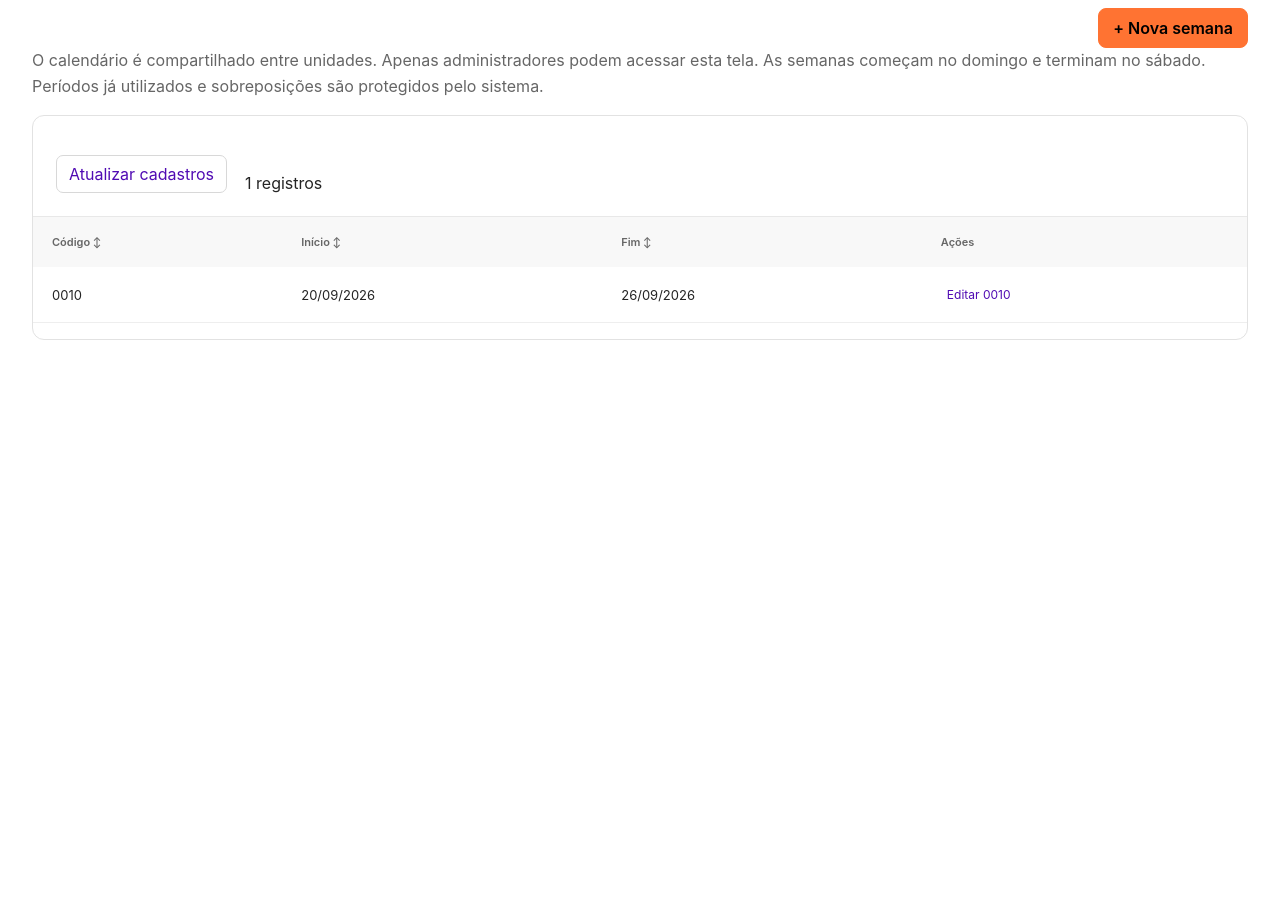
Scenario: mantém formulário da semana em conflito e não permite mudar o código
Click the button "Editar 0010".
click(979, 295)  # box [941,286,1016,303]
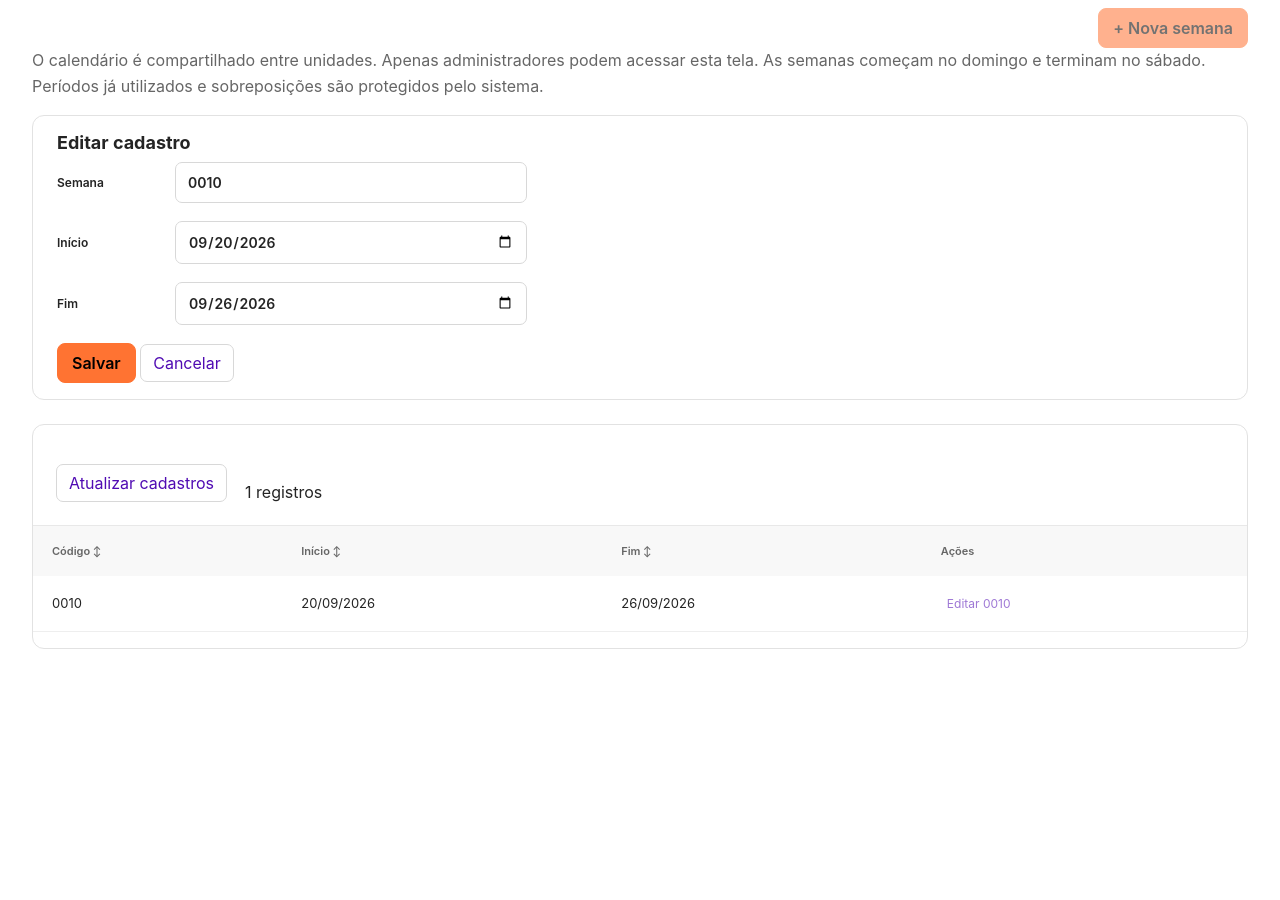
Click the button with aria-label "Salvar cadastro".
click(96, 363)  # box [57,343,136,383]
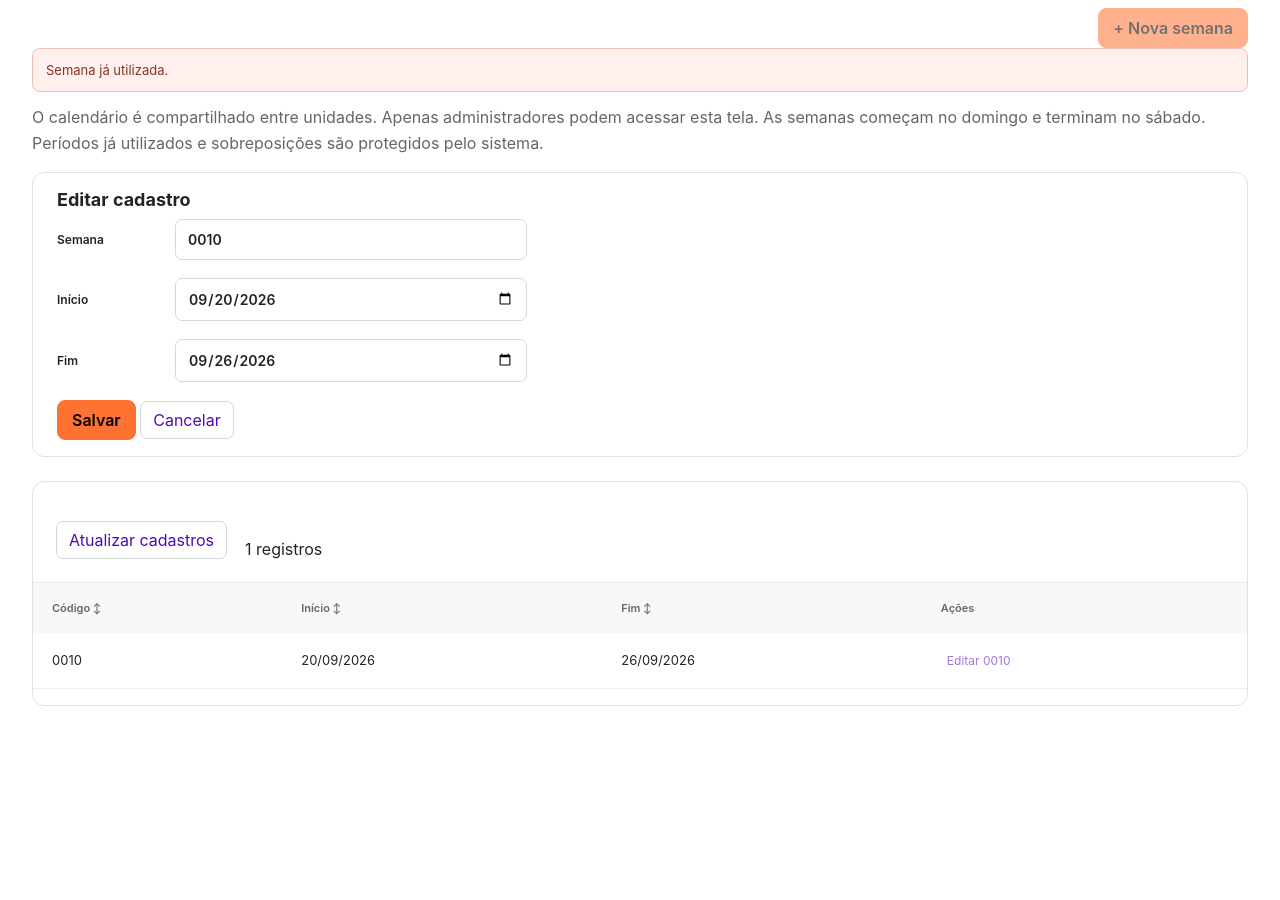
Expected: the date field named "Data inicial" holds "2026-09-20", [175,278,527,321]
Expected: the text "Semana já utilizada." is shown, [32,48,1248,92]
